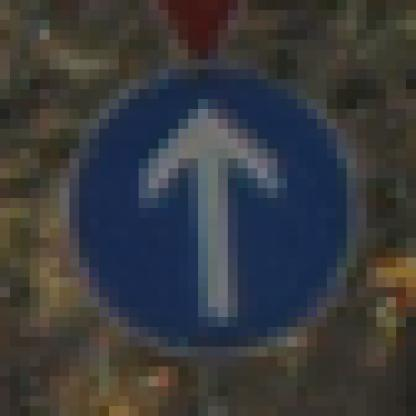AheadOnly: (51, 51, 368, 368)
